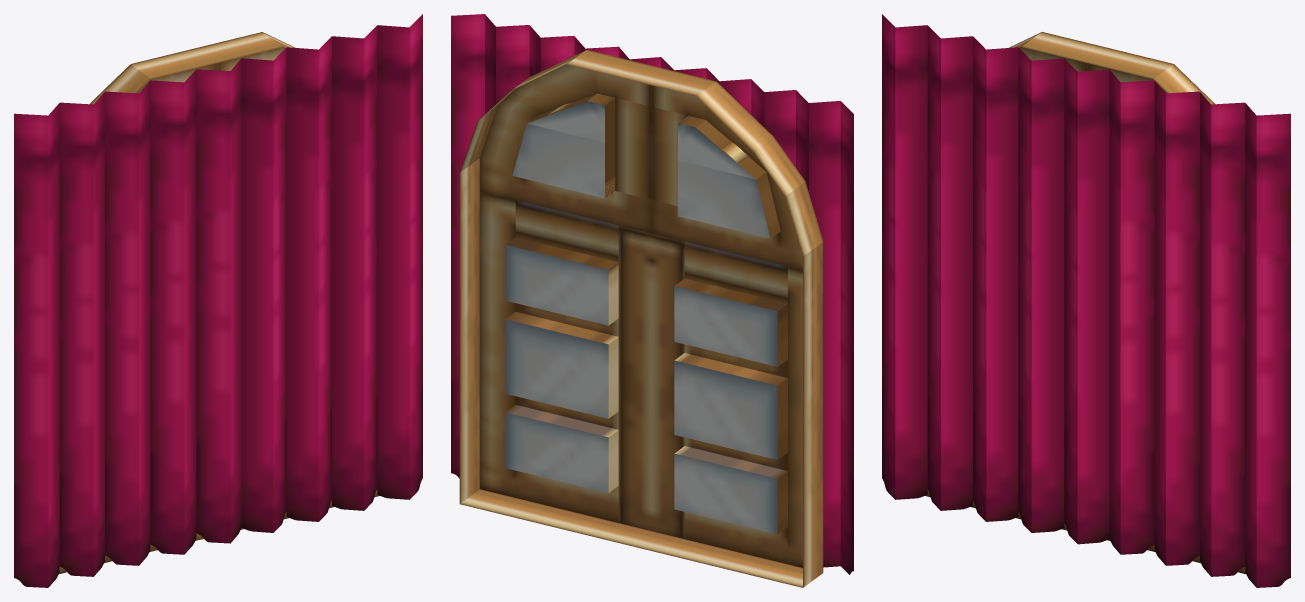
The model's file is Inside_Poly_Window_05.obj.
3 views of the same model, side by side, from view 1: azimuth 30°, elevation 25°; view 2: azimuth 150°, elevation 25°; view 3: azimuth 330°, elevation 25° (orthographic).
Visible parts, largest first — view 1: Plane_Plane.001, Cube.001_Cube; view 2: Cube.001_Cube, Plane_Plane.001; view 3: Plane_Plane.001, Cube.001_Cube.
Boxes of the visible parts, left/top/right/bottom form: Plane_Plane.001: left=14, top=14, right=422, bottom=587; Cube.001_Cube: left=59, top=32, right=379, bottom=573; Cube.001_Cube: left=459, top=50, right=823, bottom=587; Plane_Plane.001: left=451, top=14, right=853, bottom=574; Plane_Plane.001: left=882, top=14, right=1290, bottom=587; Cube.001_Cube: left=925, top=32, right=1245, bottom=573.
Size of the model in its own units: 1.13 by 1.25 by 0.1542.
1 material, 1 textured.
